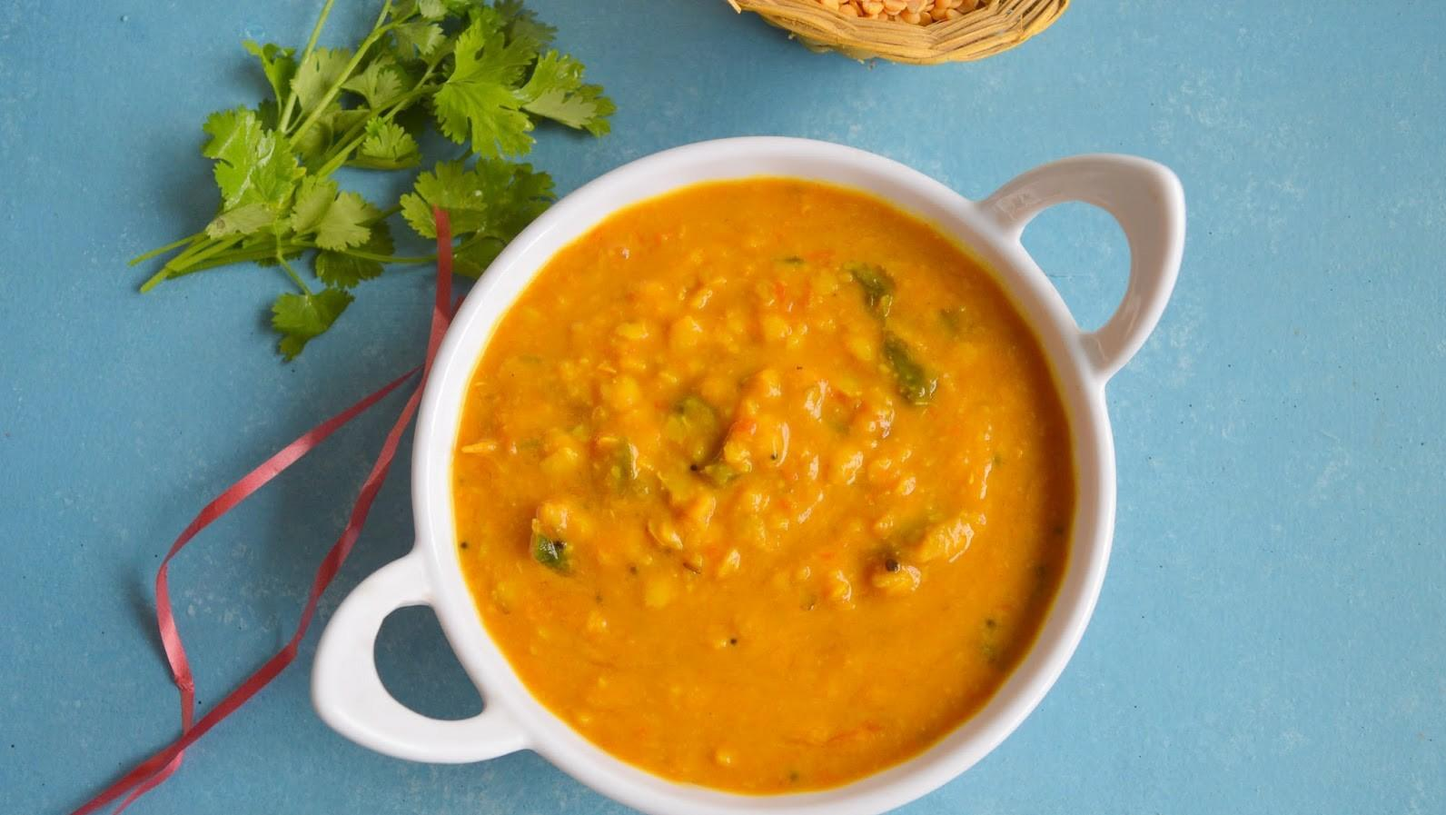Dal: (453, 182, 1076, 796)
